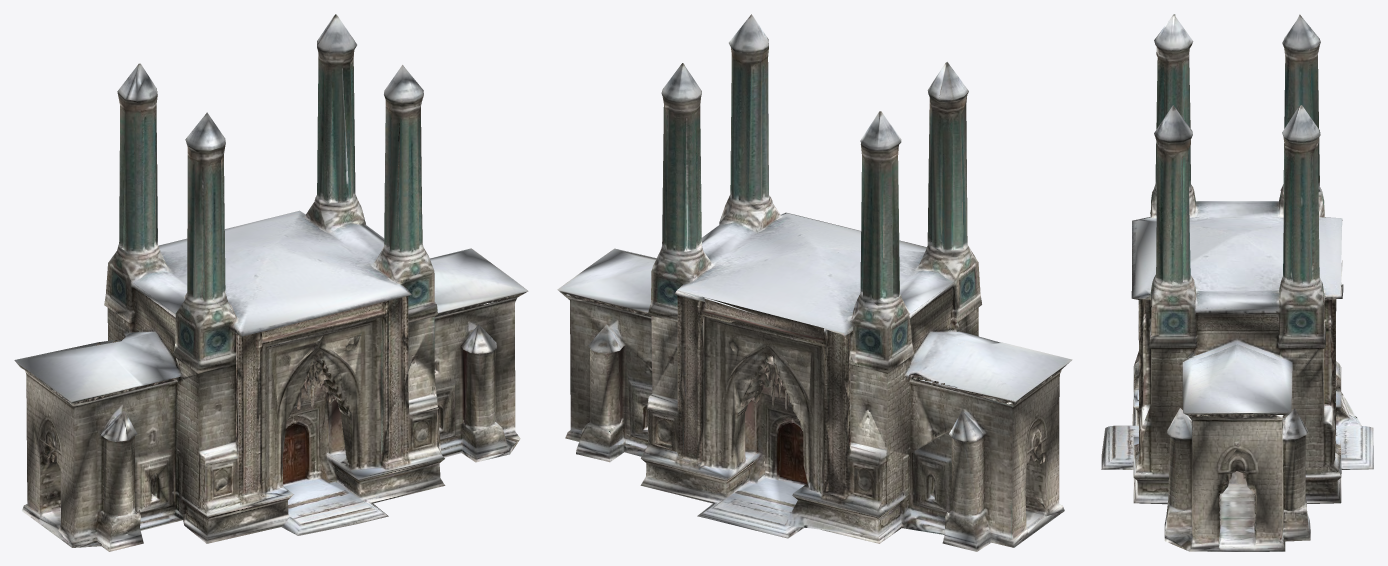
File: city_erzurum_cifte_minareli.glb
3 views of the same model, side by side, from view 1: azimuth 30°, elevation 25°; view 2: azimuth 150°, elevation 25°; view 3: azimuth 270°, elevation 25° (orthographic). The views are drawn at different scales.
Parts seen in each view (by area): view 1: Mesh1.0; view 2: Mesh1.0; view 3: Mesh1.0.
Boxes of the visible parts, <box> form: Mesh1.0: <box>14,14,528,551</box>; Mesh1.0: <box>557,14,1072,551</box>; Mesh1.0: <box>1101,14,1373,551</box>.
Bounding box in the file's own units: 25.57 × 22 × 13.93.
1 material, 1 textured.
